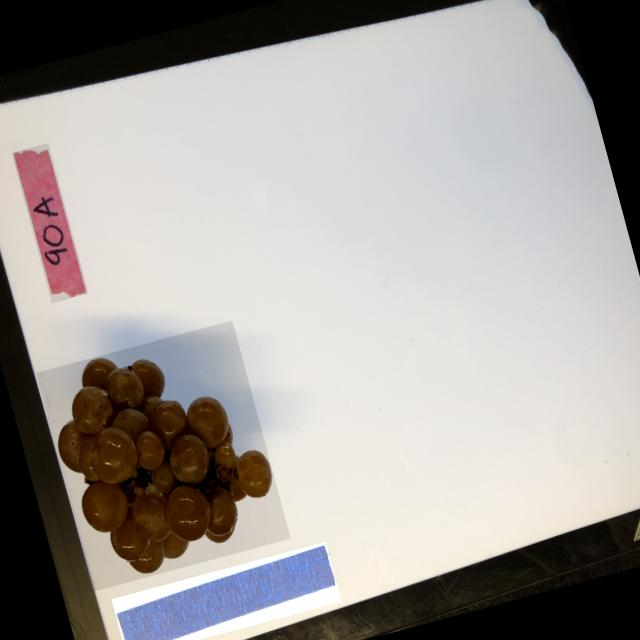grape_cluster: (36, 318, 290, 590)
index: (12, 141, 88, 302)
measure_label: (111, 539, 341, 640)
